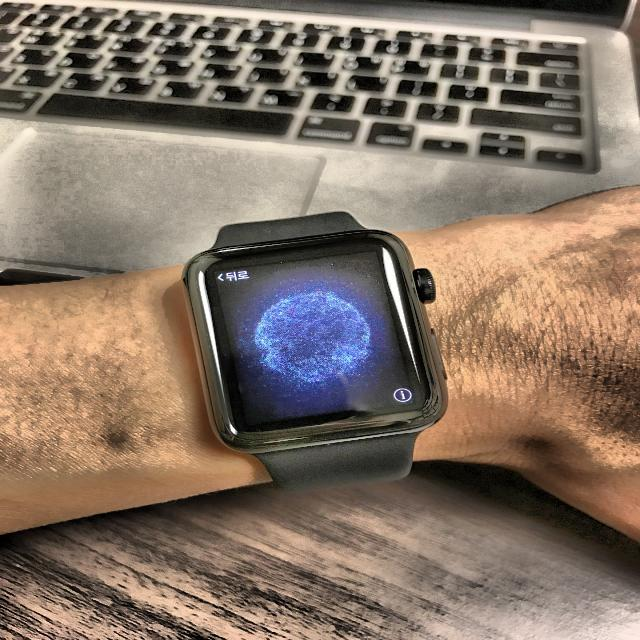Electronic watch: (182, 212, 448, 489)
